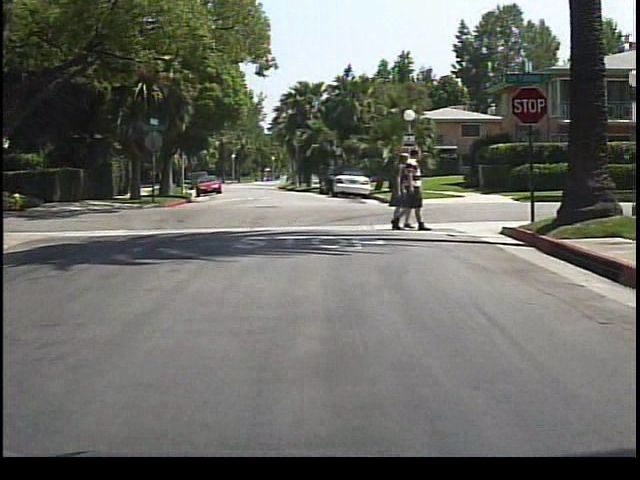person: (397, 149, 432, 230), (382, 151, 410, 235)
